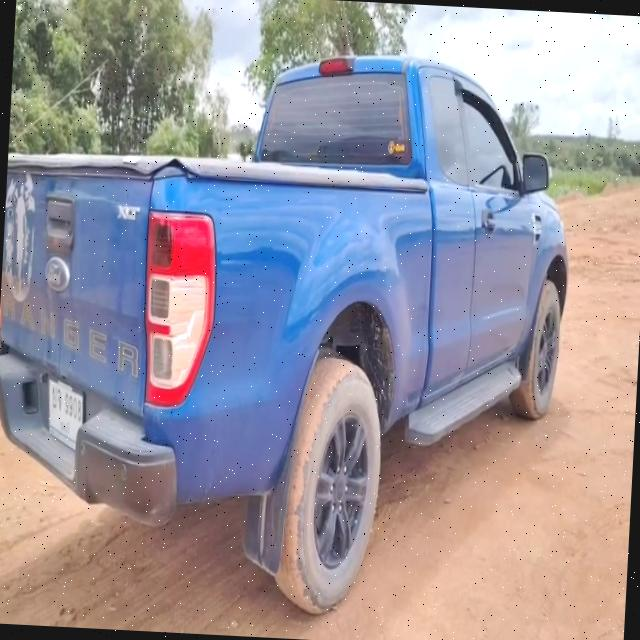Digit: (64, 390, 82, 425)
Licenseplate: (49, 376, 86, 455)
Provincename: (59, 417, 71, 438)
Thaichar: (52, 384, 63, 413)
